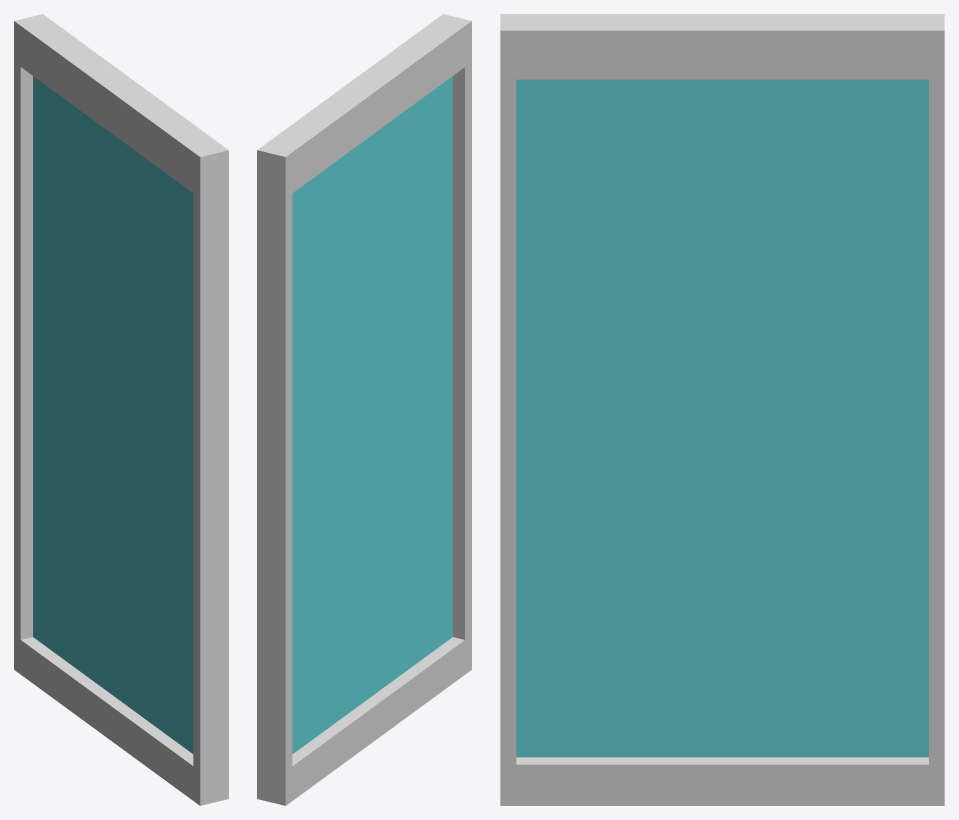
The model's file is WallGlass.fbx.
3 renders of one model, left to right at view 1: azimuth 30°, elevation 25°; view 2: azimuth 150°, elevation 25°; view 3: azimuth 270°, elevation 25°, orthographic. The views are drawn at different scales.
Parts seen in each view (by area): view 1: Glass, DoorFrame.001, Glass_cell, Glass_cell.004, Glass_cell.005, Glass_cell.002, Glass_cell.001; view 2: Glass, DoorFrame.001, Glass_cell, Glass_cell.001, Glass_cell.005, Glass_cell.004, Glass_cell.002; view 3: Glass, DoorFrame.001, Glass_cell.004, Glass_cell, Glass_cell.005.
Boxes of the visible parts, x1=… form: Glass: x1=33, y1=76, x2=193, y2=753; DoorFrame.001: x1=14, y1=14, x2=228, y2=805; Glass_cell: x1=55, y1=452, x2=181, y2=744; Glass_cell.004: x1=126, y1=148, x2=193, y2=485; Glass_cell.005: x1=33, y1=108, x2=126, y2=462; Glass_cell.002: x1=33, y1=449, x2=76, y2=668; Glass_cell.001: x1=142, y1=470, x2=186, y2=748; Glass: x1=292, y1=93, x2=452, y2=744; DoorFrame.001: x1=257, y1=14, x2=471, y2=805; Glass_cell: x1=301, y1=441, x2=428, y2=730; Glass_cell.001: x1=387, y1=364, x2=452, y2=653; Glass_cell.005: x1=292, y1=134, x2=373, y2=563; Glass_cell.004: x1=375, y1=76, x2=452, y2=423; Glass_cell.002: x1=292, y1=560, x2=323, y2=754; Glass: x1=516, y1=79, x2=928, y2=757; DoorFrame.001: x1=500, y1=14, x2=944, y2=805; Glass_cell.004: x1=516, y1=79, x2=706, y2=434; Glass_cell: x1=579, y1=458, x2=844, y2=757; Glass_cell.005: x1=704, y1=79, x2=928, y2=532.
Bounding box in the file's own units: 17.78 × 385 × 200.
